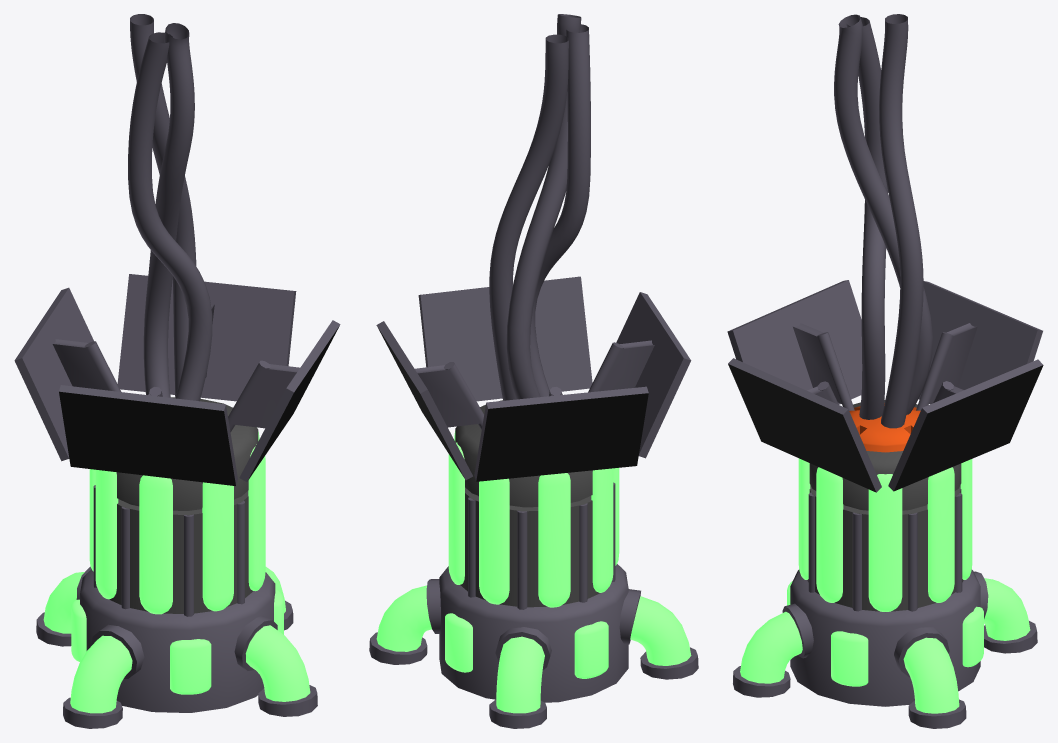
The model's file is Reactor.fbx.
The picture shows the model from 3 angles, left to right: view 1: azimuth 30°, elevation 25°; view 2: azimuth 150°, elevation 25°; view 3: azimuth 270°, elevation 25°; orthographic projection. The views are drawn at different scales.
Parts seen in each view (by area): view 1: Reactor, Line, Screen_4, Screen_1, Screen_2, Screen_3, Tube_2, Tube_1, Tube_3; view 2: Reactor, Line, Screen_2, Screen_3, Screen_4, Tube_3, Screen_1, Tube_2, Tube_4; view 3: Reactor, Line, Screen_4, Screen_1, Screen_3, Screen_2, Tube_4, Tube_1, Tube_3.
Part boxes in pixels (x1,y1,x2,y2): Reactor: [71, 397, 283, 712]; Line: [128, 14, 212, 401]; Screen_4: [59, 385, 237, 485]; Screen_1: [117, 274, 296, 401]; Screen_2: [14, 287, 121, 461]; Screen_3: [228, 320, 340, 481]; Tube_2: [63, 624, 144, 728]; Tube_1: [234, 615, 317, 716]; Tube_3: [36, 566, 91, 646]; Reactor: [439, 400, 628, 702]; Line: [489, 14, 590, 400]; Screen_2: [474, 386, 648, 481]; Screen_3: [418, 276, 592, 401]; Screen_4: [588, 292, 691, 458]; Tube_3: [489, 627, 551, 728]; Screen_1: [376, 321, 483, 480]; Tube_2: [619, 589, 698, 679]; Tube_4: [369, 579, 440, 664]; Reactor: [787, 400, 983, 706]; Line: [834, 14, 932, 428]; Screen_4: [727, 280, 862, 410]; Screen_1: [888, 359, 1043, 491]; Screen_3: [728, 358, 881, 492]; Screen_2: [916, 281, 1042, 410]; Tube_4: [894, 627, 966, 728]; Tube_1: [733, 603, 813, 697]; Tube_3: [974, 571, 1037, 653].
Size of the model in its own units: 504 by 1133 by 507.
